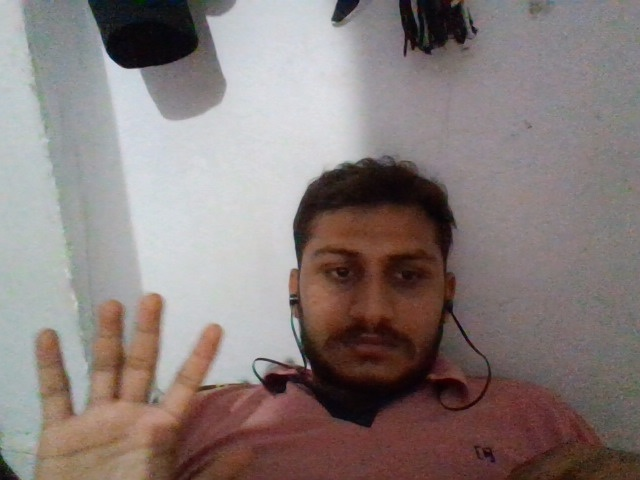Hello: (16, 285, 237, 480)
